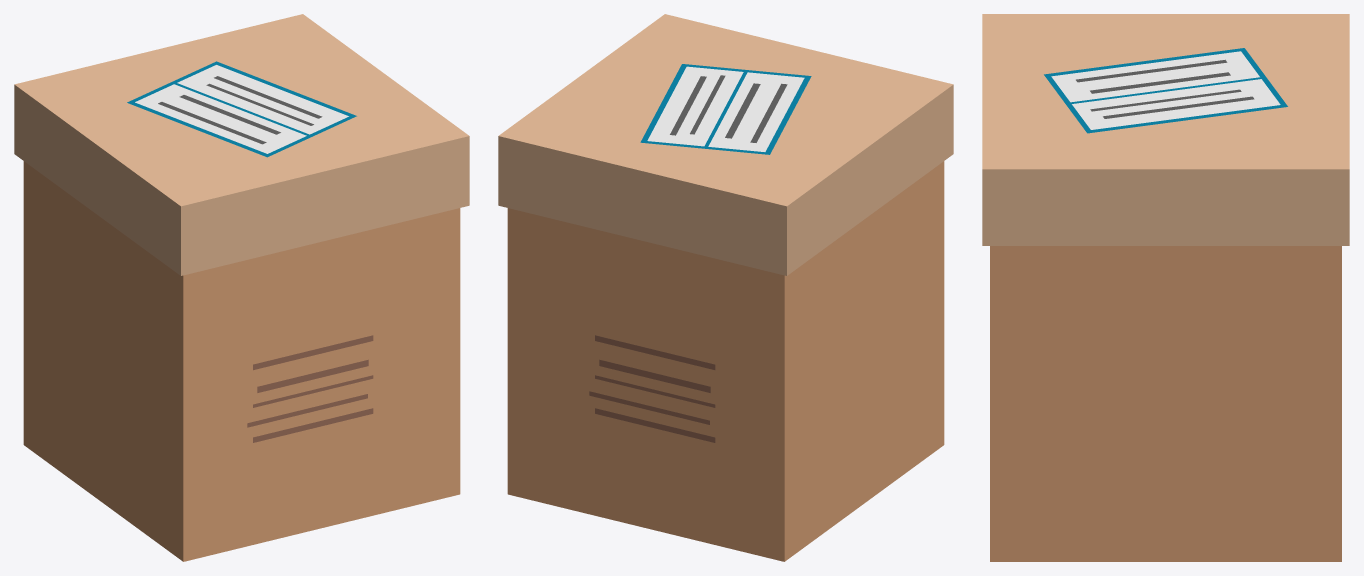
Rendered from SM_Boxes_05.fbx.
3 renders of one model, left to right at view 1: azimuth 30°, elevation 25°; view 2: azimuth 150°, elevation 25°; view 3: azimuth 270°, elevation 25°, orthographic. The views are drawn at different scales.
Visible parts, largest first — view 1: SM_Boxes_05; view 2: SM_Boxes_05; view 3: SM_Boxes_05.
Part boxes in pixels (<box>): SM_Boxes_05: <box>14,14,469,561</box>; SM_Boxes_05: <box>498,14,953,561</box>; SM_Boxes_05: <box>982,14,1349,561</box>.
Size of the model in its own units: 10.84 by 12.93 by 10.84.
